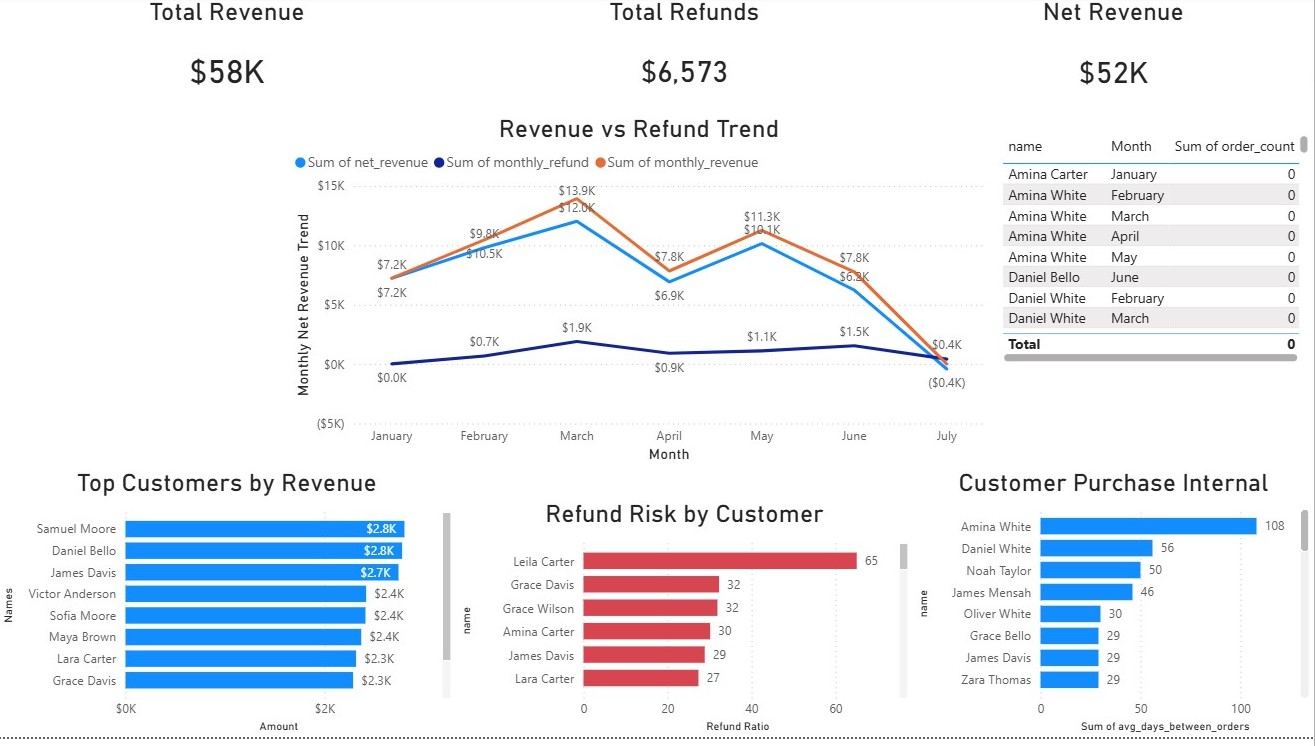

The page's visual inventory and layout, read from the dashboard file:
{"tool":"powerbi","page":{"name":"CommerPulse DashBoard","canvas":[1280,720],"ordinal":0},"visuals":[{"type":"lineChart","title":"Revenue vs Refund Trend","fields":{"Category":["monthly_refund_adjusted_revenue.month.Variation.Date Hierarchy.Year","monthly_refund_adjusted_revenue.month.Variation.Date Hierarchy.Quarter","monthly_refund_adjusted_revenue.month.Variation.Date Hierarchy.Month","monthly_refund_adjusted_revenue.month.Variation.Date Hierarchy.Day"],"Y":["Sum(monthly_refund_adjusted_revenue.net_revenue)","Sum(monthly_refund_adjusted_revenue.monthly_refund)","Sum(monthly_refund_adjusted_revenue.monthly_revenue)"]},"box":[283,113.8,680.9,344.3],"z":0},{"type":"barChart","title":"Top Customers by Revenue","fields":{"Category":["customer_revenue.name"],"Y":["Sum(customer_revenue.revenue_per_customer)"]},"box":[0,458.1,445.5,261.6],"z":1000},{"type":"barChart","title":"Refund Risk by Customer","fields":{"Category":["refund_ratio.name"],"Y":["Sum(refund_ratio.refund_ratio)"]},"box":[445.5,488.3,444.5,231.5],"z":2000},{"type":"barChart","title":"Customer Purchase Internal","fields":{"Category":["customer_purchase_interval.name"],"Y":["Sum(customer_purchase_interval.avg_days_between_orders)"]},"box":[890,458.1,390,261.6],"z":3000},{"type":"tableEx","fields":{"Values":["Customer Inactivity (Missing Months).name","Customer Inactivity (Missing Months).month.Variation.Date Hierarchy.Month","Sum(Customer Inactivity (Missing Months).order_count)"]},"box":[971.7,129.4,308.3,230.5],"z":4000},{"type":"card","title":"Total Revenue","fields":{"Values":["Sum(monthly_revenue.monthly_revenue)"]},"box":[0,0,445.5,113.8],"z":4001},{"type":"card","title":"Total Refunds","fields":{"Values":["Sum(monthly_refund_adjusted_revenue.monthly_refund)"]},"box":[445.5,0,444.5,113.8],"z":4002},{"type":"card","title":"Net Revenue","fields":{"Values":["Sum(monthly_refund_adjusted_revenue.net_revenue)"]},"box":[890,0,390,113.8],"z":4003}]}

Visuals, with their boxes in screenshot pixels (x1, y1, x2, y2), scaled from the page's 1280x720 canvas onto the 1315x746 screenshot:
"Revenue vs Refund Trend" lineChart: {"x1": 291, "y1": 118, "x2": 990, "y2": 475}
"Top Customers by Revenue" barChart: {"x1": 0, "y1": 475, "x2": 458, "y2": 745}
"Refund Risk by Customer" barChart: {"x1": 458, "y1": 506, "x2": 914, "y2": 745}
"Customer Purchase Internal" barChart: {"x1": 914, "y1": 475, "x2": 1314, "y2": 745}
tableEx - Customer Inactivity (Missing Months).name x Customer Inactivity (Missing Months).month.Variation.Date Hierarchy.Month: {"x1": 998, "y1": 134, "x2": 1314, "y2": 373}
"Total Revenue" card: {"x1": 0, "y1": 0, "x2": 458, "y2": 118}
"Total Refunds" card: {"x1": 458, "y1": 0, "x2": 914, "y2": 118}
"Net Revenue" card: {"x1": 914, "y1": 0, "x2": 1314, "y2": 118}
